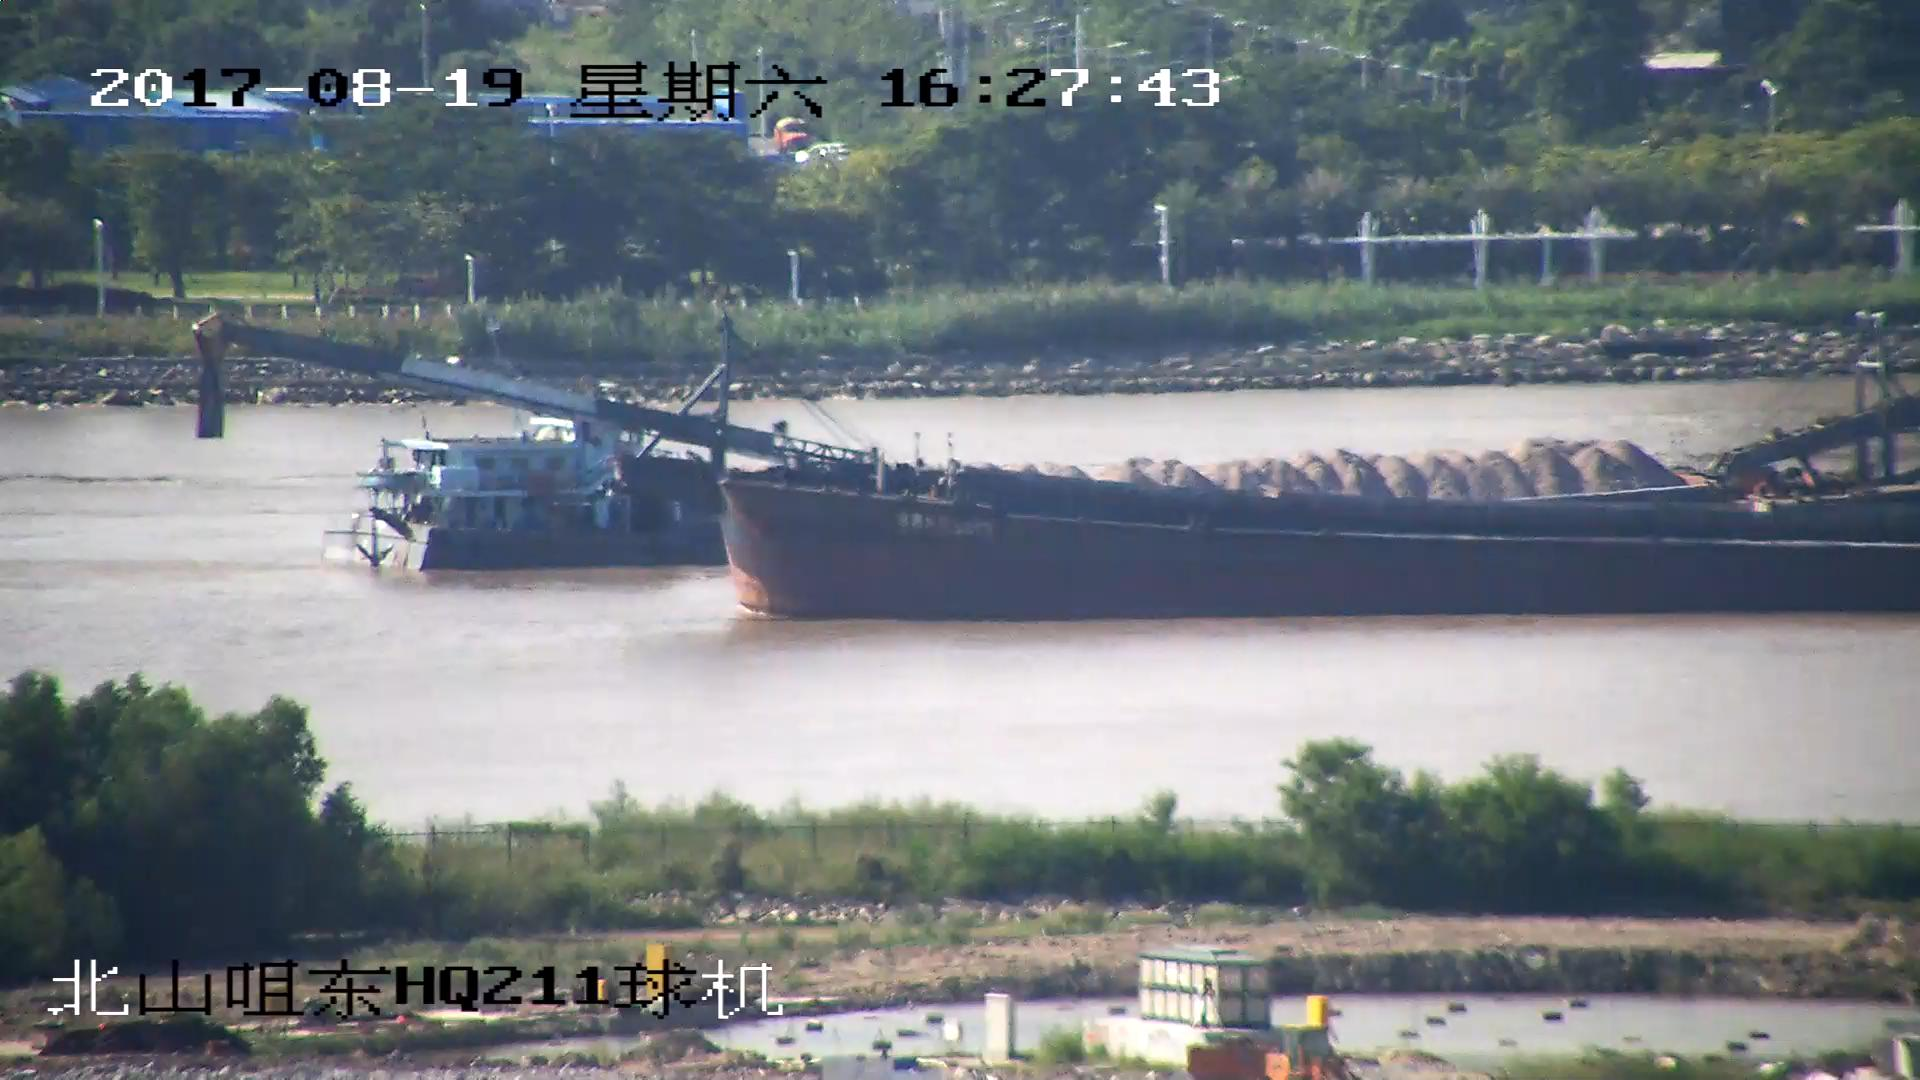bulk cargo carrier: (188, 318, 1919, 624)
ore carrier: (349, 409, 1920, 569)
